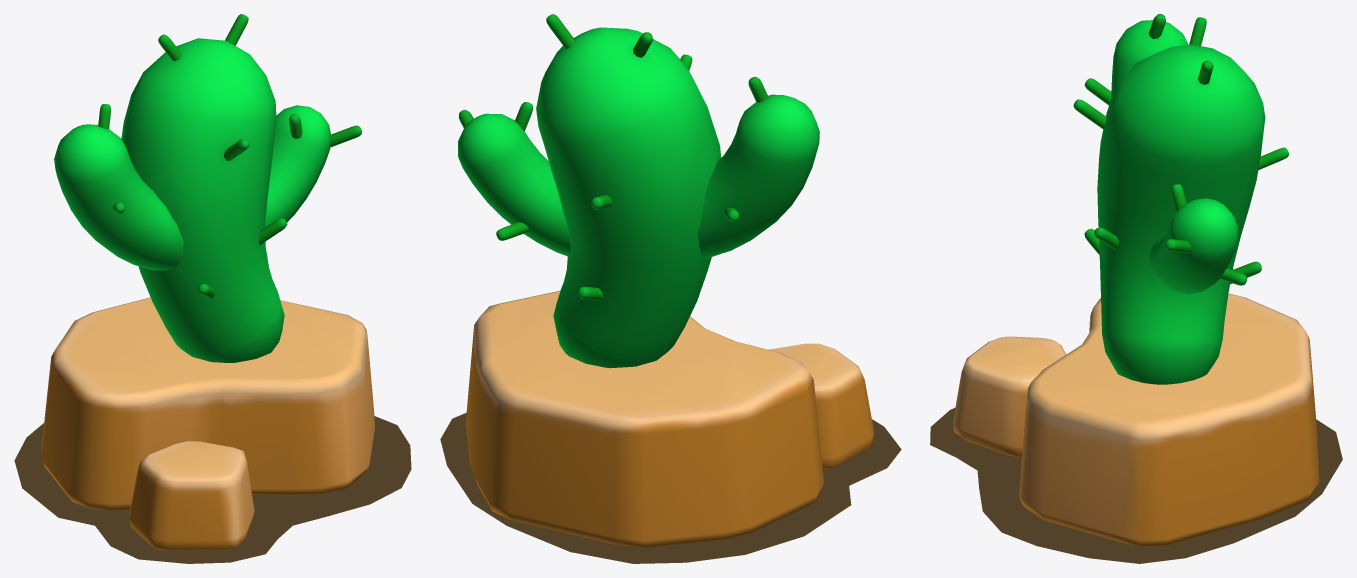
File: E_Plant02.fbx
3 views of the same model, side by side, from view 1: azimuth 30°, elevation 25°; view 2: azimuth 150°, elevation 25°; view 3: azimuth 270°, elevation 25° (orthographic). The views are drawn at different scales.
Parts seen in each view (by area): view 1: group48_polySurface82, group48_group45_pSphere67, polySurface96; view 2: group48_polySurface82, group48_group45_pSphere67, polySurface96; view 3: group48_polySurface82, group48_group45_pSphere67, polySurface96.
Boxes of the visible parts, bbox=[...] form: group48_polySurface82: bbox=[41, 297, 374, 550]; group48_group45_pSphere67: bbox=[54, 14, 361, 362]; polySurface96: bbox=[14, 416, 411, 563]; group48_polySurface82: bbox=[465, 291, 874, 547]; group48_group45_pSphere67: bbox=[458, 14, 819, 368]; polySurface96: bbox=[440, 412, 901, 563]; group48_polySurface82: bbox=[953, 293, 1319, 547]; group48_group45_pSphere67: bbox=[1073, 14, 1288, 384]; polySurface96: bbox=[930, 407, 1342, 563].
Bounding box in the file's own units: 109 × 125 × 106.
